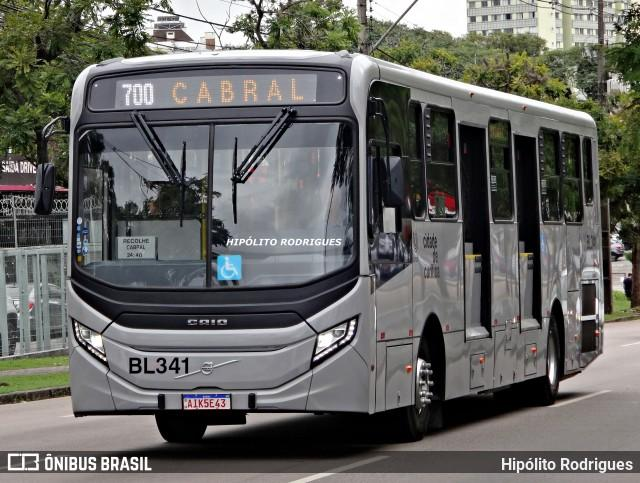CABRAL: (163, 76, 307, 107)
